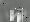person: (19, 7, 27, 22), (12, 8, 18, 21)
